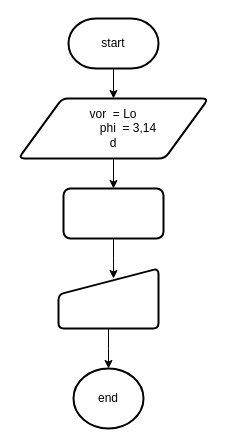
This 226x446 diagram has some shape labels left out. Each missing label, with the centre of its shape:
"Lo" goes at point (108, 298).
"Lo = phi x d" goes at point (113, 213).
